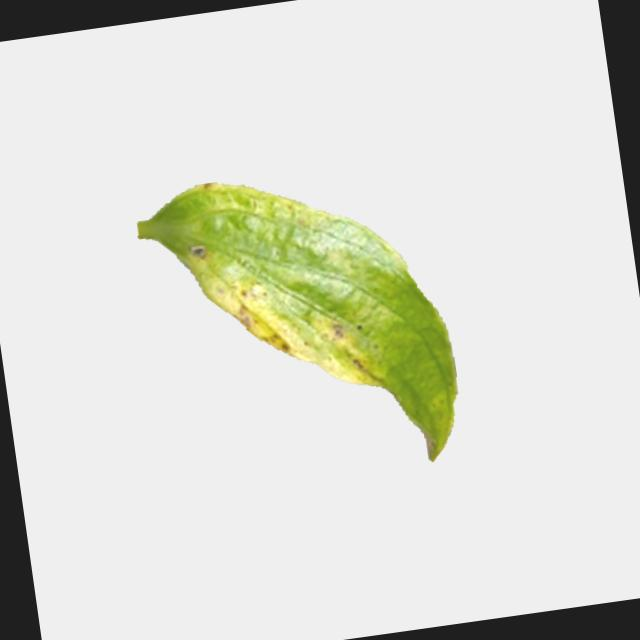yellow-mottle-virus: (130, 147, 483, 498)
